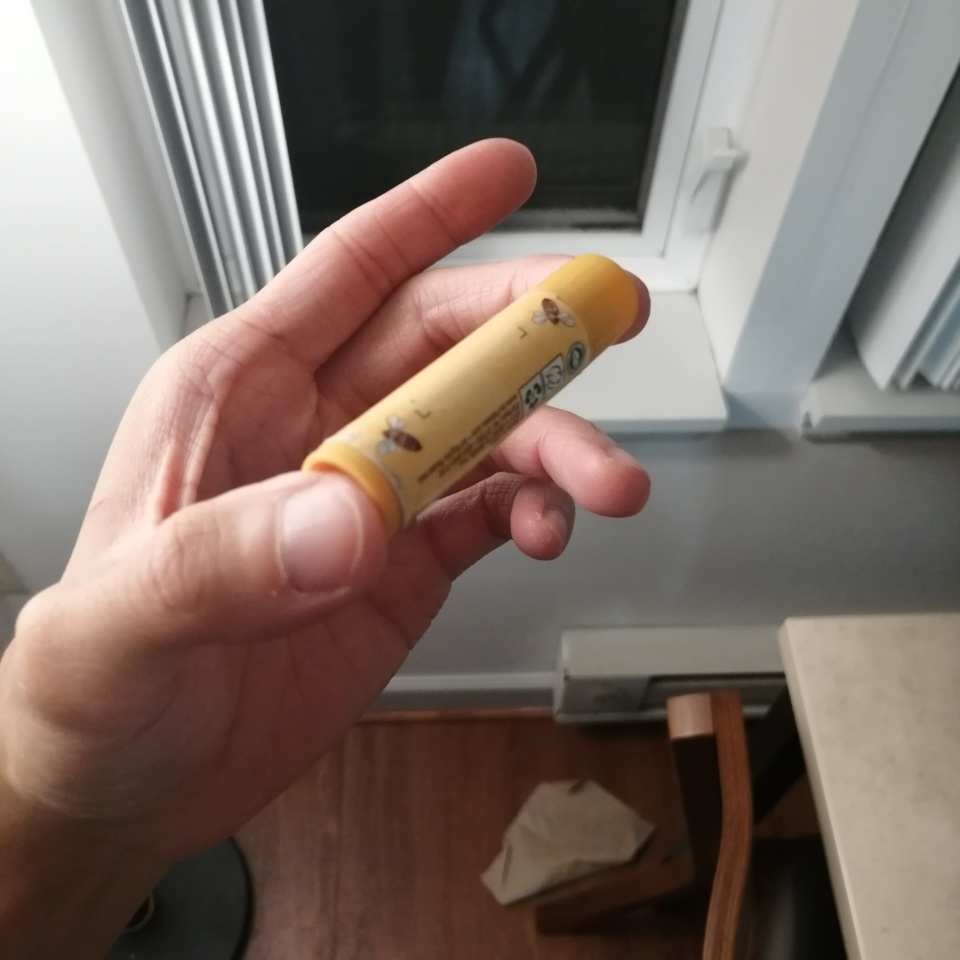chapstick: (299, 254, 638, 539)
